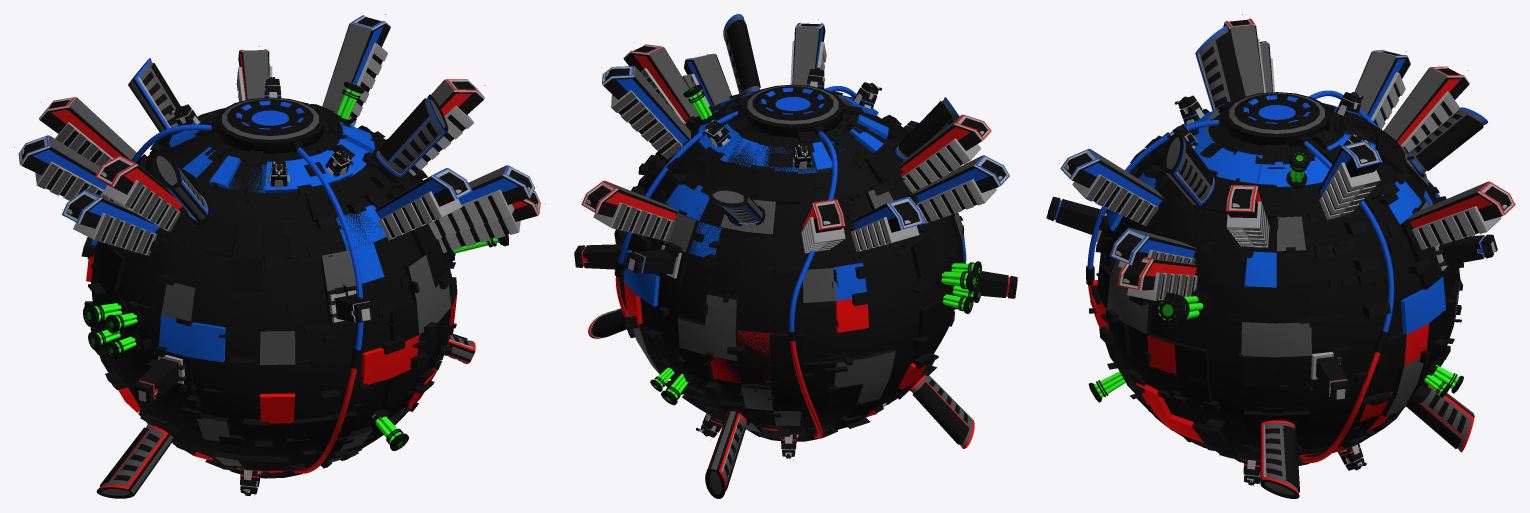
Rendered from CyborgPlanet.FBX.
The picture shows the model from 3 angles, left to right: view 1: azimuth 30°, elevation 25°; view 2: azimuth 150°, elevation 25°; view 3: azimuth 270°, elevation 25°; orthographic projection. The views are drawn at different scales.
Visible parts, largest first — view 1: Box037, Sphere004, Cylinder108, Building 018, Building 023, Box070, Box078, Circle006, Box054, Building 020, Box063, Building 019 (+17 smaller); view 2: Sphere004, Box037, Cylinder108, Box070, Box082, Building 023, Building 021, Box071, Box058, Building 018, Box087, Box075 (+18 smaller); view 3: Sphere004, Box037, Cylinder108, Building 022, Box078, Building 019, Building 018, Building 020, Box087, Building 021, Box067, Circle005 (+19 smaller).
Part boxes in pixels (box(x1,y1,x2,y2)): Box037: box(81, 104, 456, 474); Sphere004: box(86, 108, 457, 472); Cylinder108: box(211, 97, 323, 153); Building 018: box(372, 94, 448, 179); Building 023: box(96, 422, 176, 498); Box070: box(322, 15, 390, 115); Box078: box(39, 97, 140, 160); Circle006: box(293, 147, 363, 473); Box054: box(18, 135, 107, 189); Building 020: box(128, 58, 180, 131); Box063: box(428, 189, 514, 239); Building 019: box(152, 150, 211, 225); Sphere004: box(619, 92, 966, 434); Box037: box(614, 91, 964, 438); Cylinder108: box(738, 84, 843, 137); Box070: box(602, 66, 691, 145); Box082: box(623, 44, 698, 123); Building 023: box(909, 375, 974, 448); Building 021: box(705, 407, 749, 498); Box071: box(611, 90, 682, 159); Box058: box(912, 155, 1009, 203); Building 018: box(723, 14, 760, 94); Box087: box(581, 180, 679, 220); Box075: box(898, 114, 991, 176); Sphere004: box(1093, 102, 1460, 461); Box037: box(1089, 101, 1463, 464); Cylinder108: box(1219, 92, 1329, 147); Building 022: box(1257, 419, 1299, 498); Box078: box(1383, 66, 1469, 144); Building 019: box(1195, 26, 1245, 110); Building 018: box(1162, 132, 1218, 209); Building 020: box(1405, 107, 1487, 177); Box087: box(1408, 181, 1515, 228); Building 021: box(1406, 383, 1474, 452); Box067: box(1060, 148, 1163, 206); Circle005: box(1276, 114, 1394, 463).
Size of the model in its own units: 735 by 709 by 631.
